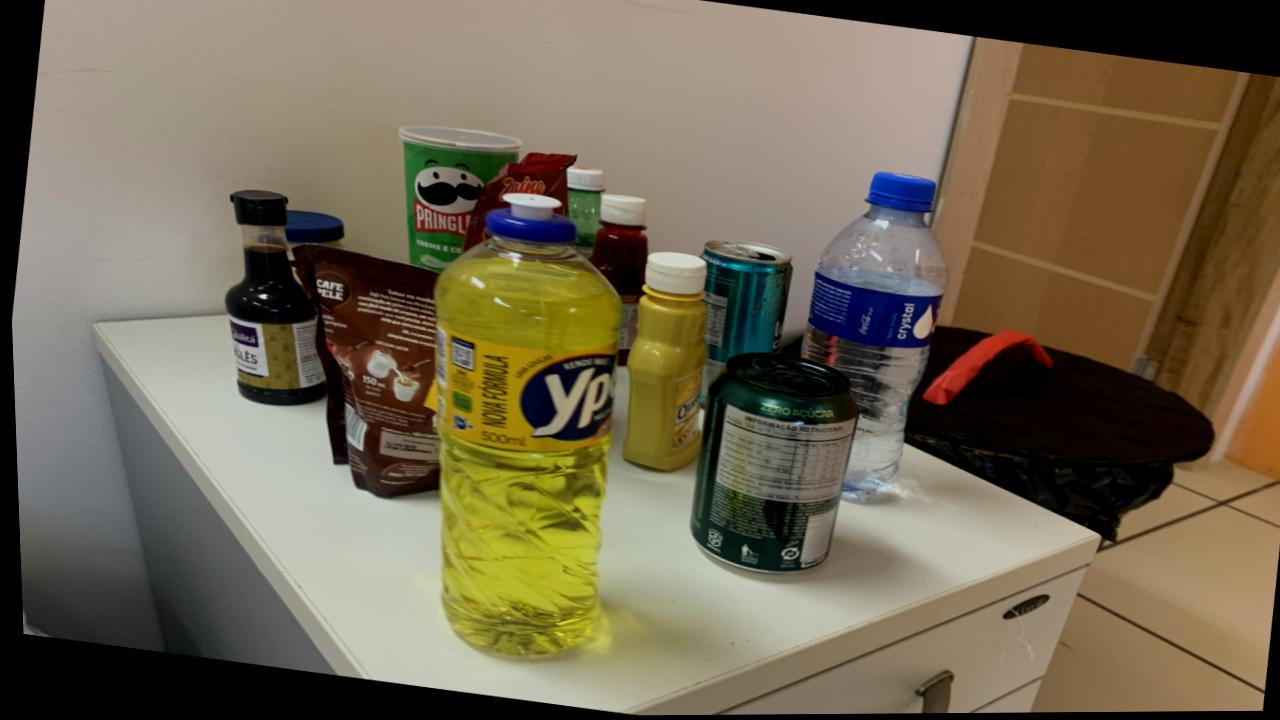Coffee-Pantry_Items: (290, 244, 436, 498)
Detergent-Cleanup_Items: (431, 195, 618, 657)
English_Sauce-Pantry_Items: (222, 190, 323, 405)
Guarana-Drinks: (564, 167, 604, 259)
Guarana_Can-Drinks: (686, 353, 854, 574)
Ketchup-Pantry_Items: (588, 194, 646, 363)
Mayonnaise-Pantry_Items: (283, 209, 342, 269), (327, 366, 336, 388)
Mustard-Pantry_Items: (619, 252, 704, 472)
Pringles-Snacks: (397, 125, 520, 271), (656, 356, 660, 359)
Tea-Drinks: (697, 243, 789, 399)
Tomato_Sauce-Pantry_Items: (461, 152, 574, 250)
Tonic-Drinks: (461, 152, 574, 250)
Water_Bottle-Drinks: (797, 173, 945, 500)
